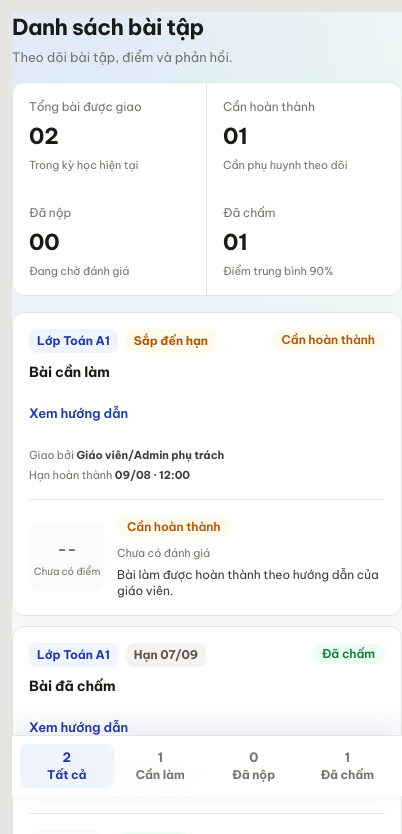
Test: ViewerAssignmentsPage mobile workflow › prioritizes upcoming work and keeps mobile controls clear of bottom navigation
The image size is (402, 834).
Check: the heading "Bài cần làm" is shown, box [29, 363, 110, 381]
Check: the headings read "Bài cần làm", "Bài đã chấm", in this order, box [29, 363, 110, 381]; [29, 677, 115, 695]
Click the heading "Xem hướng dẫn" below "Bài cần làm" at (79, 413), box [29, 405, 128, 421]
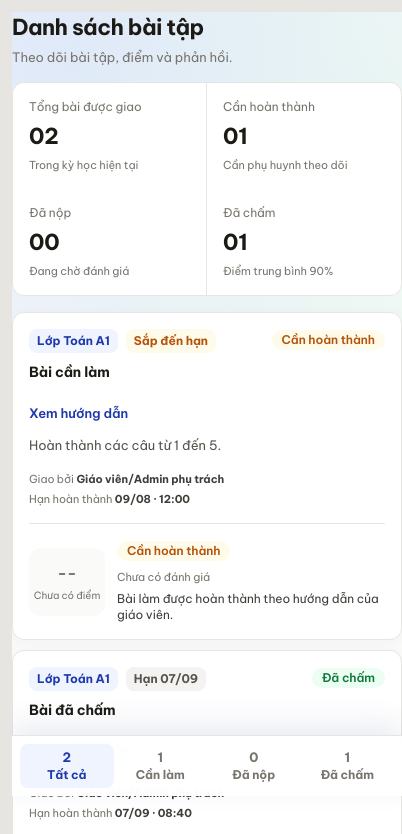
Click the tab "1 Cần làm" at (160, 766), box [114, 744, 207, 788]
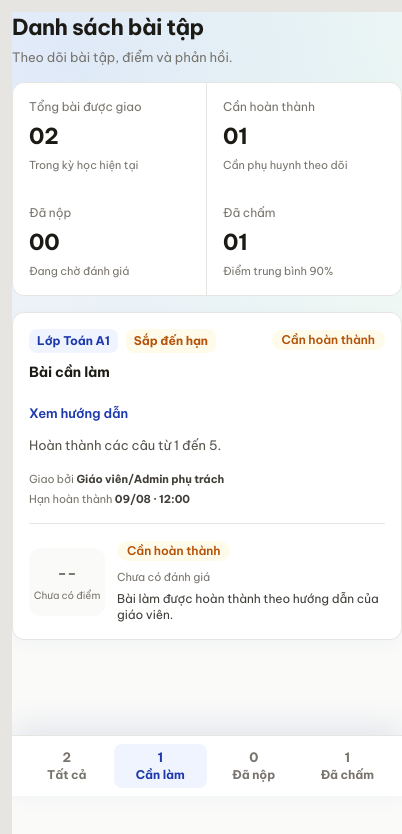
Check: the heading "Bài đã chấm" is gone
